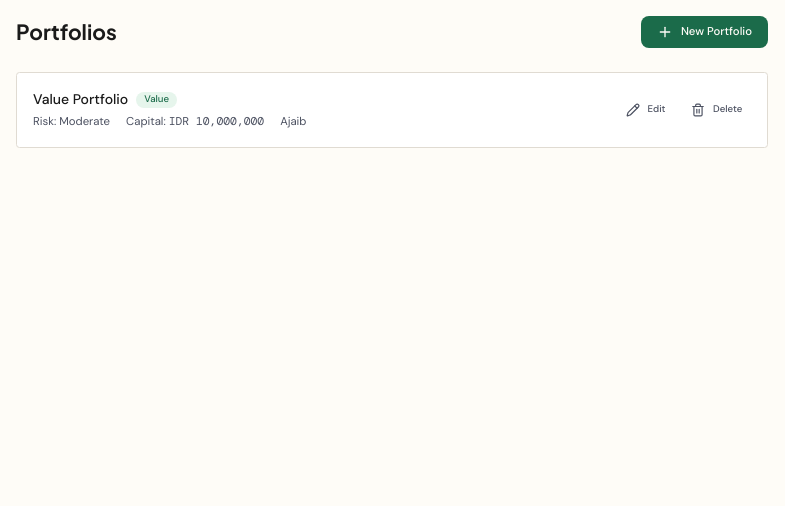
Test case: PortfolioPage › State D: Portfolio view (detail) › shows P/L % with color coding for gain
expect the text "Value Portfolio" is shown: met, box left=33, top=89, right=128, bottom=110
Click the button "Value Portfolio".
click(81, 99)  # box left=33, top=89, right=617, bottom=131
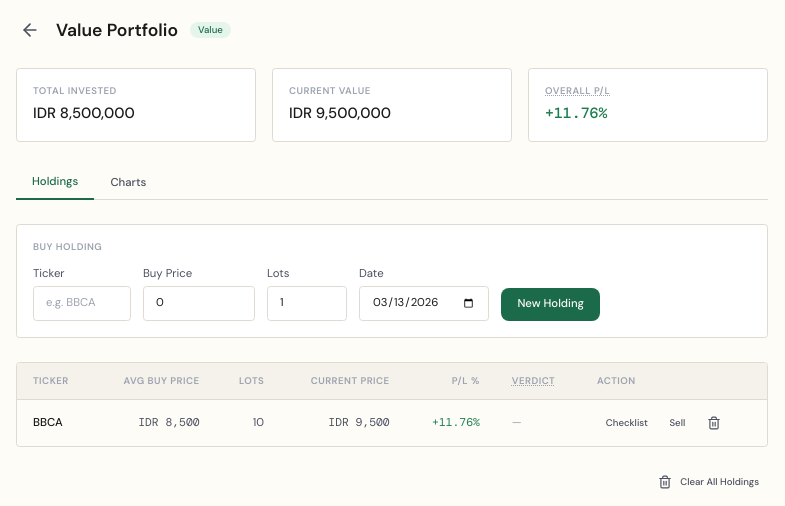
expect the text "BBCA" is shown: met, box left=17, top=400, right=94, bottom=446
expect the cell with test id "pl-BBCA" reads "+11.76%": met, box left=432, top=415, right=480, bottom=430
